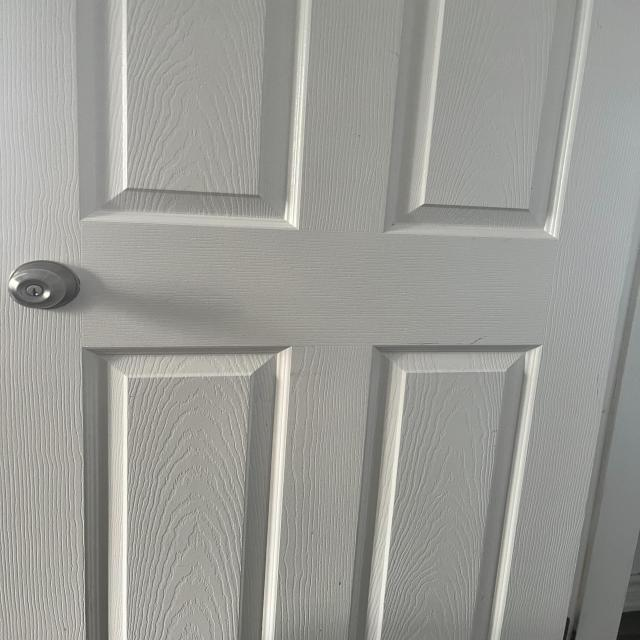door-knob: (8, 261, 80, 309)
